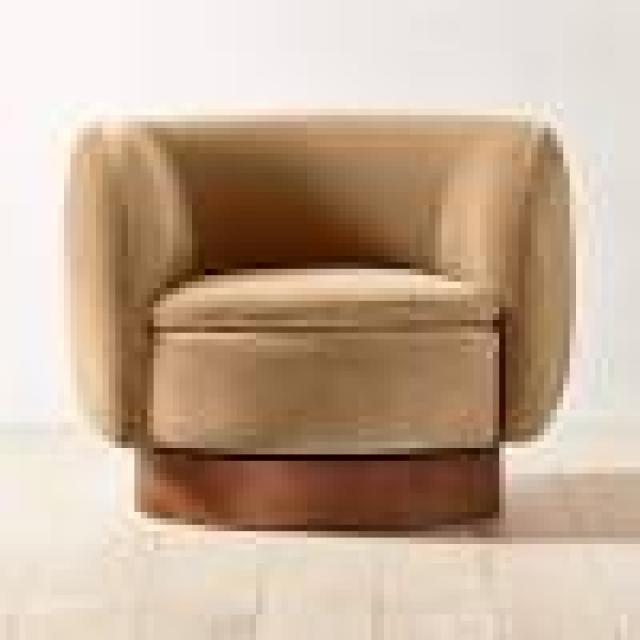chair: (31, 66, 602, 586)
